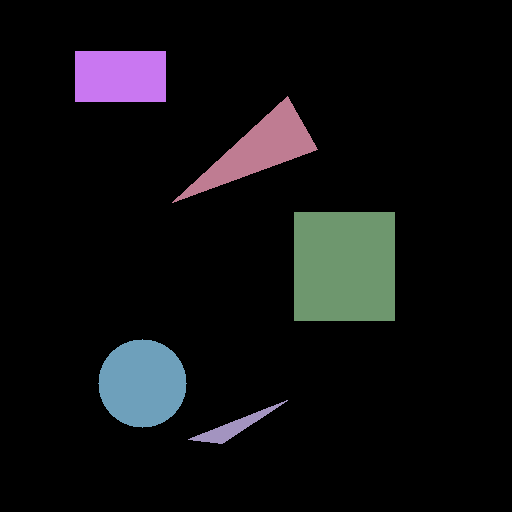circle: (98, 339, 186, 427)
rectangle: (75, 51, 165, 101)
square: (294, 212, 394, 320)
triangle: (172, 97, 317, 202), (188, 400, 287, 443)
